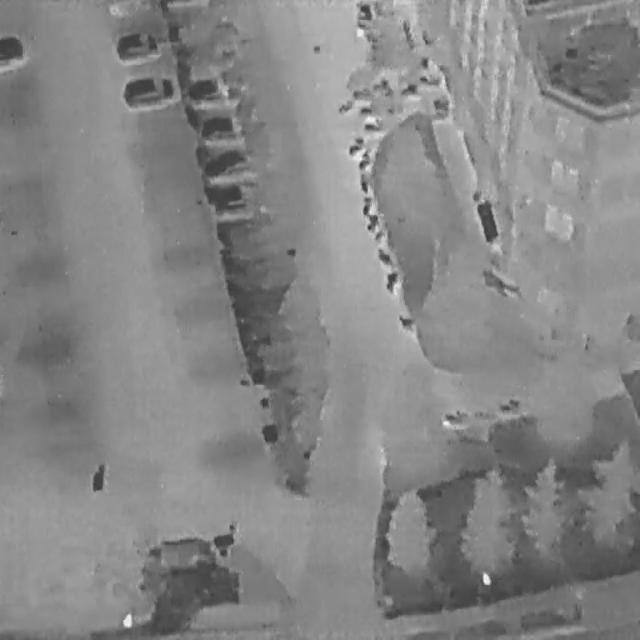Car: (138, 534, 223, 590), (120, 70, 174, 110), (211, 177, 267, 215), (203, 141, 253, 181), (113, 27, 161, 62), (201, 112, 244, 142), (187, 75, 233, 101), (0, 34, 24, 65)
